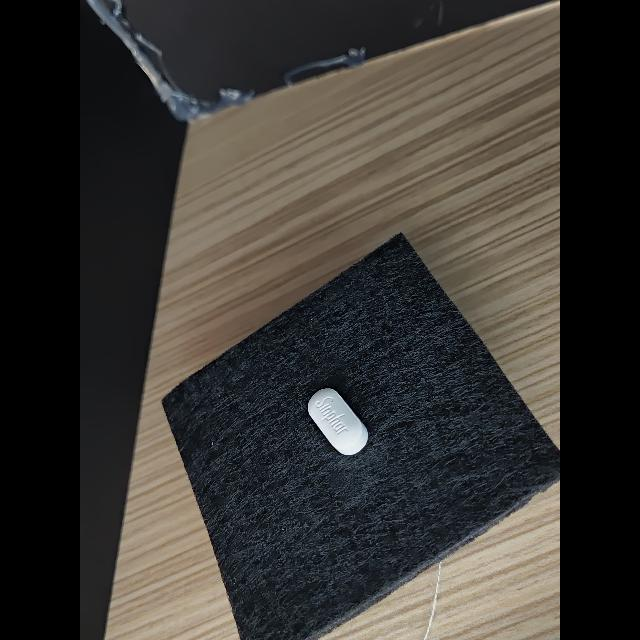Intact Pill: (308, 388, 368, 455)
